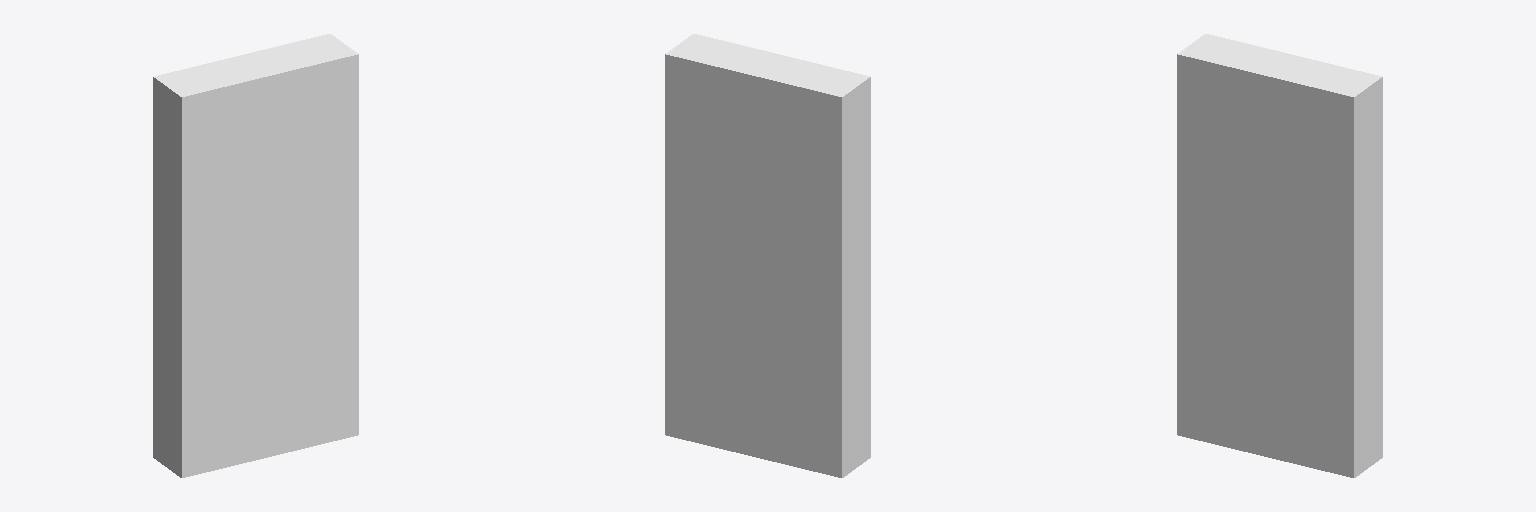
The model's file is apt:wall-seperator-bathroom.obj.
The picture shows the model from 3 angles: view 1: azimuth 30°, elevation 25°; view 2: azimuth 150°, elevation 25°; view 3: azimuth 330°, elevation 25°; orthographic projection.
Parts seen in each view (by area): view 1: apt:wall-seperator-bathroom; view 2: apt:wall-seperator-bathroom; view 3: apt:wall-seperator-bathroom.
Part boxes in pixels (bbox=[...]): apt:wall-seperator-bathroom: bbox=[153, 34, 358, 477]; apt:wall-seperator-bathroom: bbox=[665, 34, 870, 477]; apt:wall-seperator-bathroom: bbox=[1177, 34, 1382, 477].
Size of the model in its own units: 18 by 37 by 5.